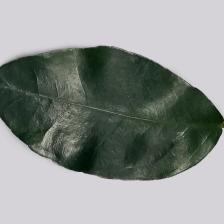healthy: (7, 43, 185, 164)
